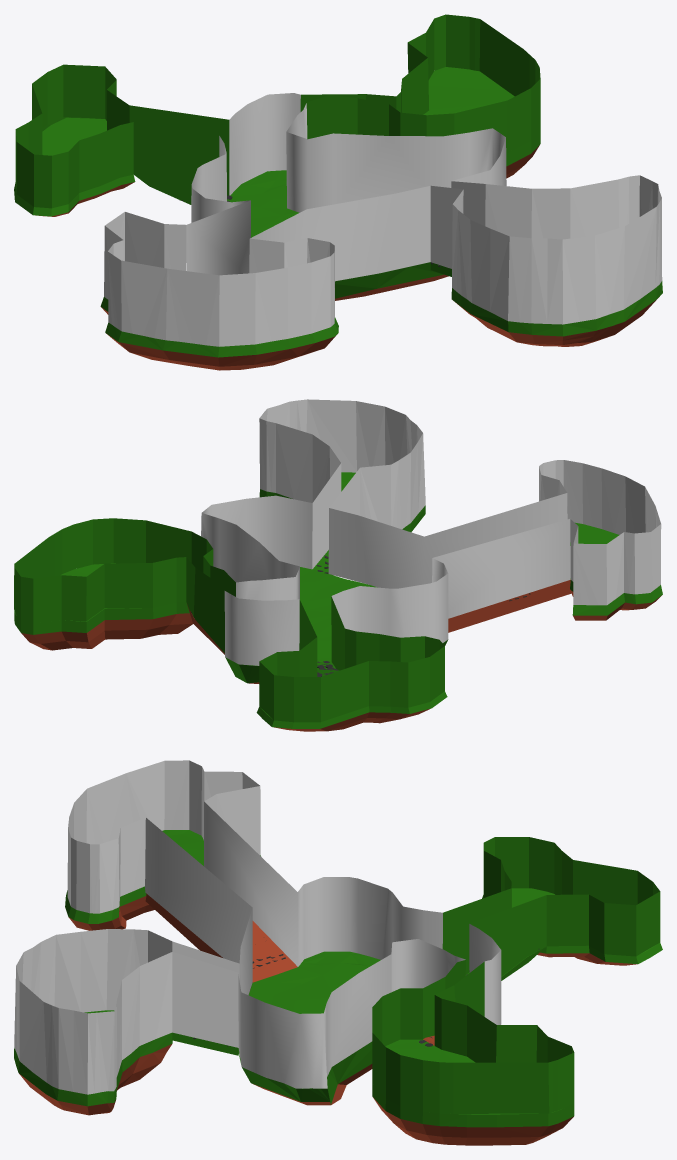
The model's file is MapTerrain.fbx.
3 views of the same model, one above another, from view 1: azimuth 30°, elevation 25°; view 2: azimuth 150°, elevation 25°; view 3: azimuth 270°, elevation 25° (orthographic). The views are drawn at different scales.
Visible parts, largest first — view 1: Плоскость.006, Плоскость.004, Плоскость.007, Плоскость.003, Плоскость.002, Плоскость.005; view 2: Плоскость.006, Плоскость.002, Плоскость.007, Плоскость.005, Плоскость.004, Плоскость.003; view 3: Плоскость.006, Плоскость.007, Плоскость.002, Плоскость.003, Плоскость.004, Плоскость.005.
Part boxes in pixels (<box>): Плоскость.006: <box>15,14,662,346</box>; Плоскость.004: <box>100,297,338,370</box>; Плоскость.007: <box>229,170,448,300</box>; Плоскость.003: <box>451,281,662,346</box>; Плоскость.002: <box>423,67,540,178</box>; Плоскость.005: <box>14,117,135,216</box>; Плоскость.006: <box>14,399,661,722</box>; Плоскость.002: <box>14,563,192,650</box>; Плоскость.007: <box>225,567,448,683</box>; Плоскость.005: <box>256,691,447,731</box>; Плоскость.004: <box>570,522,662,620</box>; Плоскость.003: <box>259,472,425,532</box>; Плоскость.006: <box>14,760,660,1113</box>; Плоскость.007: <box>238,951,380,1105</box>; Плоскость.002: <box>372,1039,574,1145</box>; Плоскость.003: <box>14,1010,172,1115</box>; Плоскость.004: <box>65,830,260,930</box>; Плоскость.005: <box>482,888,662,965</box>.
Bounding box in the file's own units: 45362 × 12002 × 46644.
